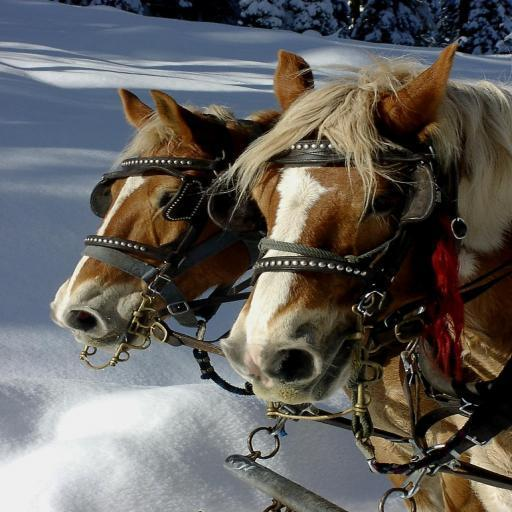horse: (50, 89, 486, 512), (216, 39, 512, 512)
